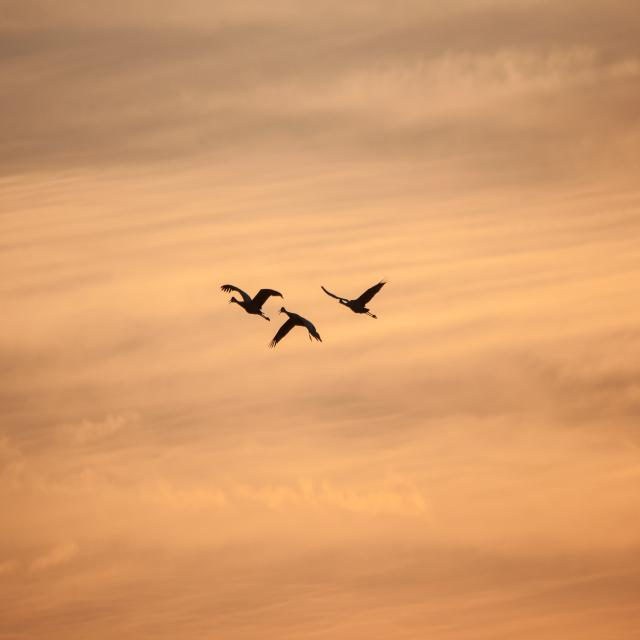bird: (323, 279, 387, 318), (223, 284, 282, 321), (270, 309, 324, 347)
